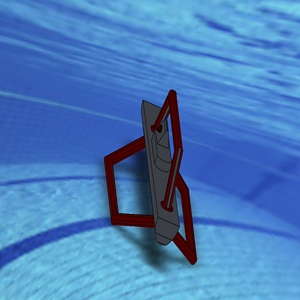submarine: (67, 71, 245, 275)
